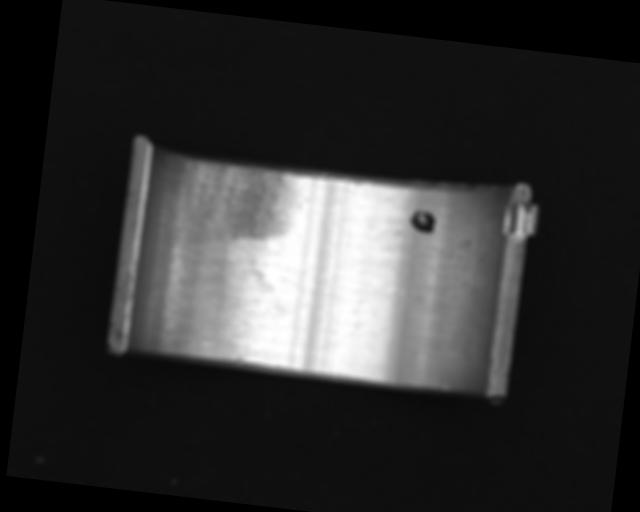blot: (408, 208, 438, 234)
bruise: (233, 354, 245, 365)
scratch: (174, 158, 307, 248)
